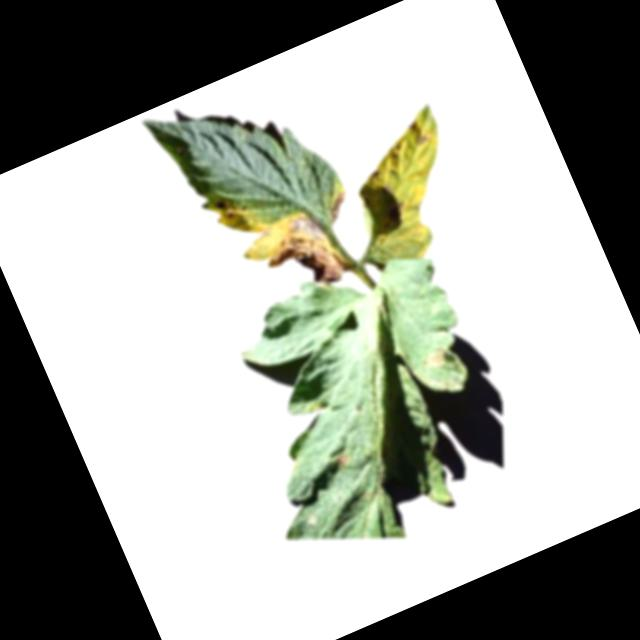Early_blight: (252, 204, 351, 308), (318, 188, 355, 224), (403, 114, 433, 151), (210, 187, 243, 217), (421, 343, 452, 369), (331, 447, 354, 470)
